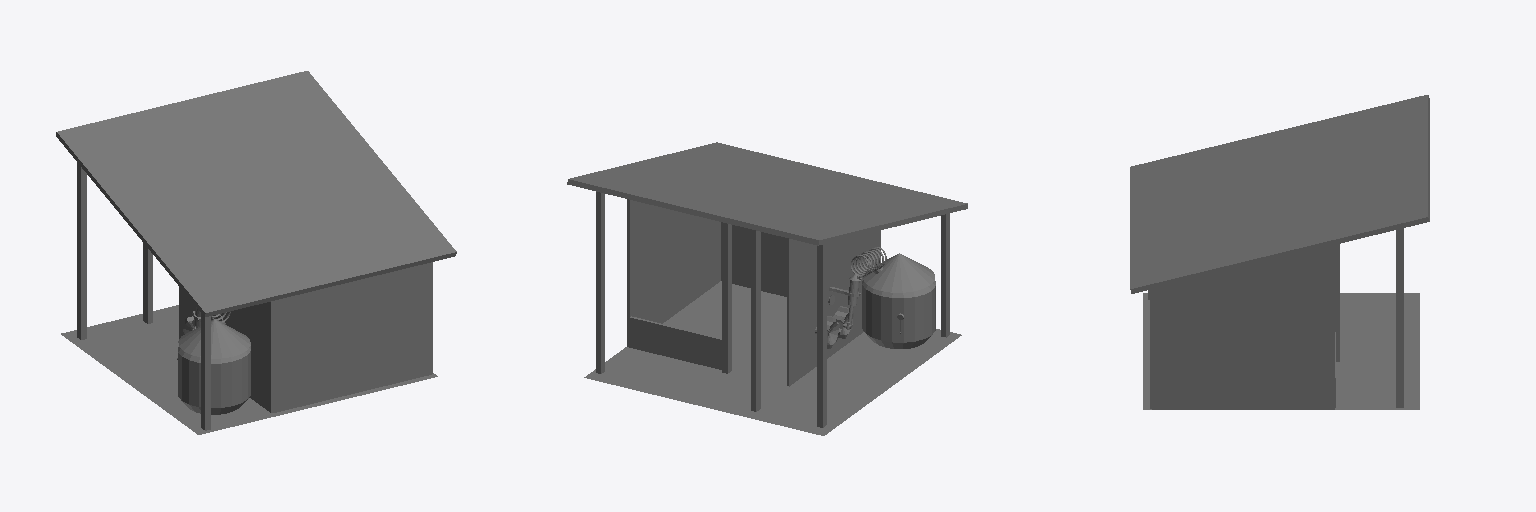
Rendered from Blacksmithing.obj.
The picture shows the model from 3 angles: view 1: azimuth 30°, elevation 25°; view 2: azimuth 150°, elevation 25°; view 3: azimuth 270°, elevation 25°; orthographic projection.
Visible parts, largest first — view 1: pCube13, pCube18, pPlane1, pPipe4, pCube16, pCube8, pasted__pCube8 group3, pCube6; view 2: pCube13, pPlane1, pCube3, pCube16, pPipe4, pCube5, pCube18, pCube8, pCube6, pCube7, pCube9, pasted__pCube8 group3 (+1 smaller); view 3: pCube13, pCube3, pPlane1, pCube7, pCube9.
Boxes of the visible parts, box(x1,y1,x2,y2) form: pCube13: box(56, 71, 456, 316); pCube18: box(273, 262, 431, 412); pPlane1: box(61, 305, 437, 434); pPipe4: box(177, 319, 250, 414); pCube16: box(179, 287, 272, 412); pCube8: box(77, 163, 86, 339); pasted__pCube8 group3: box(201, 314, 210, 430); pCube6: box(143, 243, 152, 323); pCube13: box(567, 142, 967, 245); pPlane1: box(584, 281, 961, 435); pCube3: box(627, 199, 720, 346); pCube16: box(787, 230, 880, 386); pPipe4: box(862, 253, 935, 348); pCube5: box(629, 316, 721, 369); pCube18: box(721, 222, 786, 296); pCube8: box(817, 244, 826, 427); pCube6: box(751, 229, 760, 411); pCube7: box(596, 192, 604, 373); pCube9: box(722, 222, 731, 373); pasted__pCube8 group3: box(941, 213, 949, 337); pCube13: box(1130, 95, 1429, 293); pCube3: box(1152, 245, 1334, 409); pPlane1: box(1143, 293, 1419, 409); pCube7: box(1396, 228, 1403, 407); pCube9: box(1335, 244, 1339, 361).
Size of the model in its own units: 26.25 by 20.01 by 27.02.